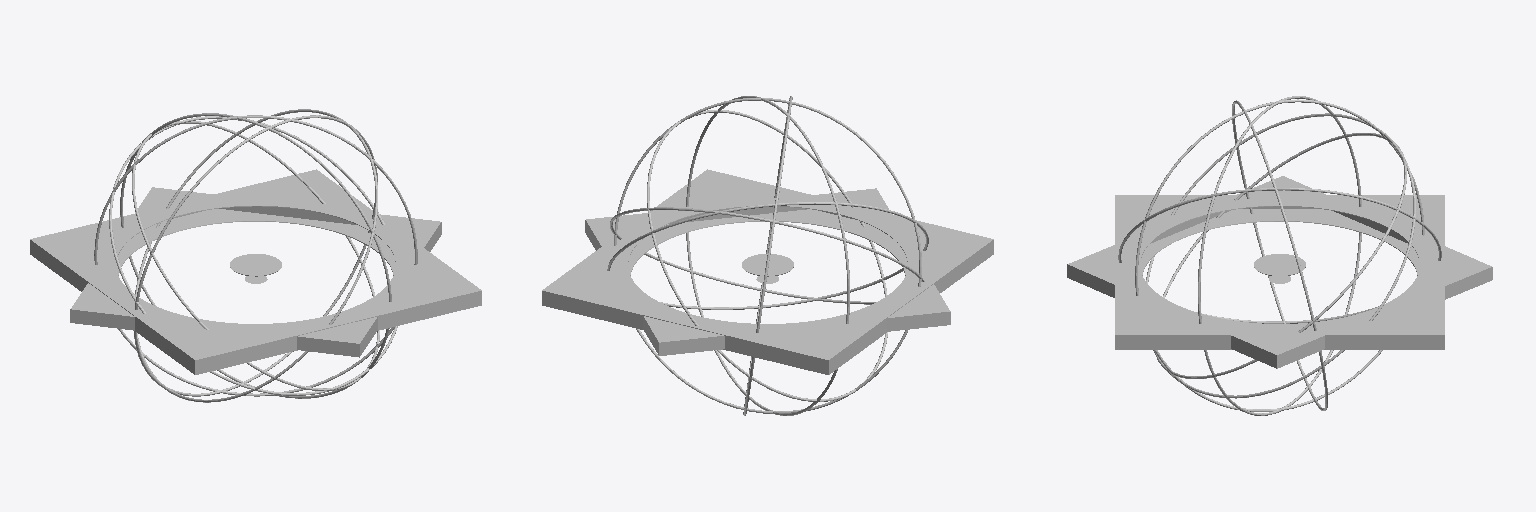
Rendered from sheap.obj.
The picture shows the model from 3 angles: view 1: azimuth 30°, elevation 25°; view 2: azimuth 150°, elevation 25°; view 3: azimuth 270°, elevation 25°; orthographic projection.
Parts seen in each view (by area): view 1: Icosphere; view 2: Icosphere; view 3: Icosphere.
Boxes of the visible parts, x1,y1,x2,y2 form: Icosphere: [30, 109, 481, 402]; Icosphere: [542, 96, 993, 415]; Icosphere: [1067, 96, 1492, 415].
Size of the model in its own units: 51.37 by 38.95 by 51.37.